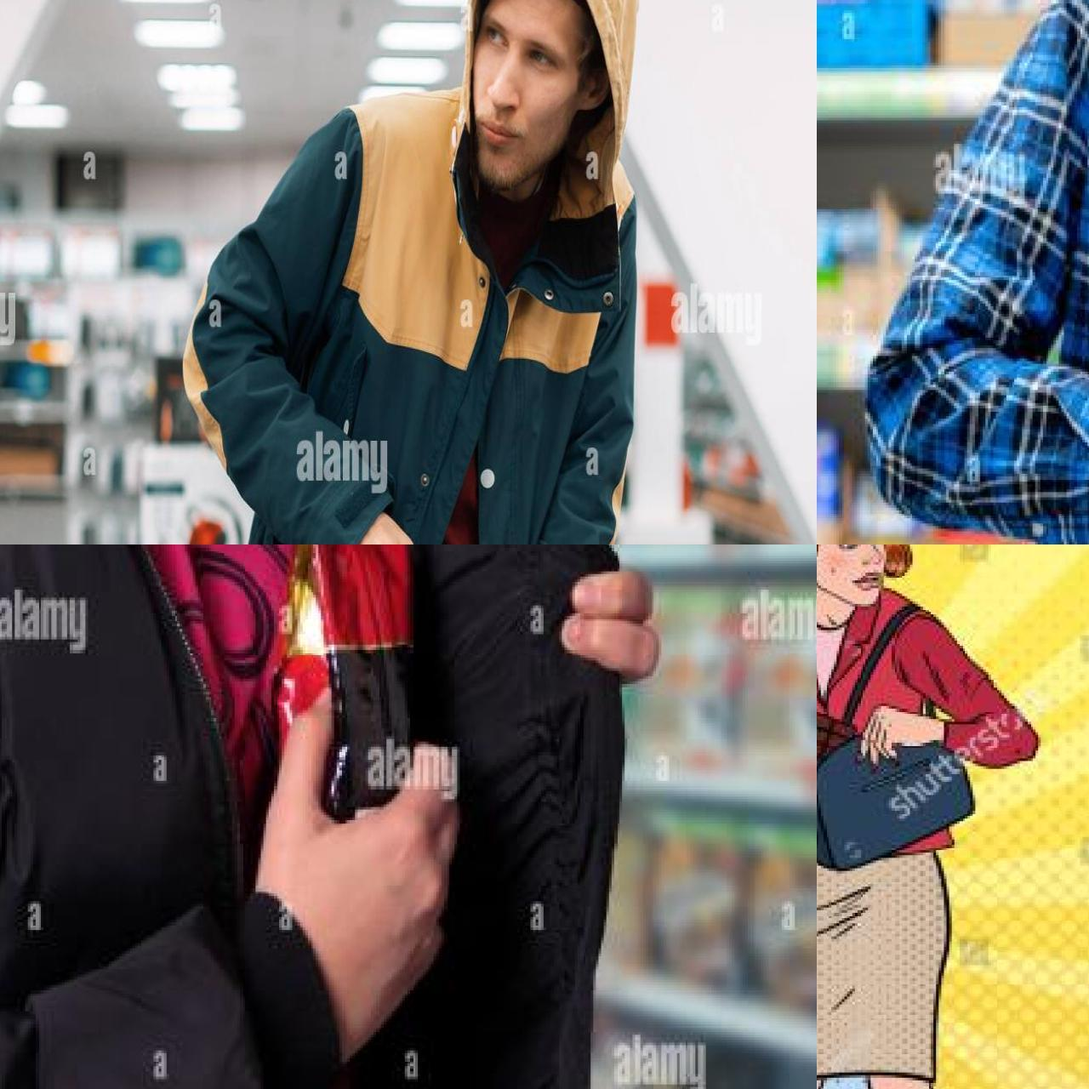shoplifting: (1, 542, 818, 1089)
